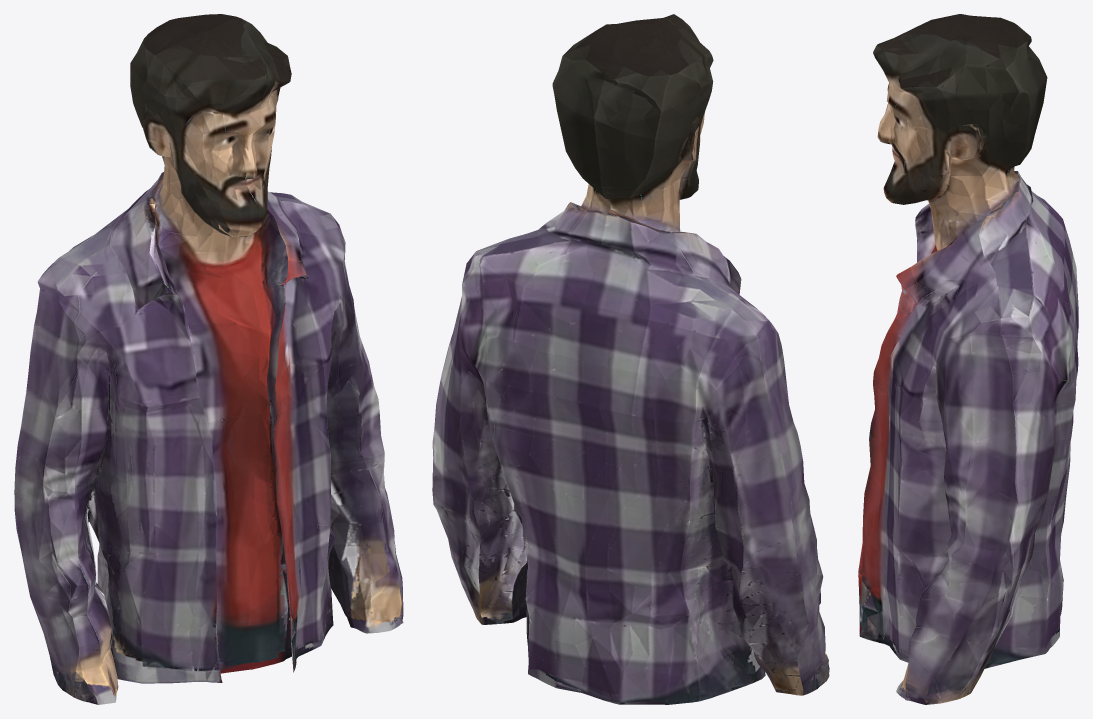
The model's file is _render.glb.
3 views of the same model, side by side, from view 1: azimuth 30°, elevation 25°; view 2: azimuth 150°, elevation 25°; view 3: azimuth 270°, elevation 25° (orthographic). The views are drawn at different scales.
Visible parts, largest first — view 1: geometry_0; view 2: geometry_0; view 3: geometry_0.
Part boxes in pixels (x1=…): geometry_0: x1=14, y1=14, x2=403, y2=704; geometry_0: x1=432, y1=14, x2=829, y2=704; geometry_0: x1=858, y1=14, x2=1078, y2=704.
Bounding box in the file's own units: 0.5031 × 0.8284 × 0.2748.
1 material, 1 textured.
